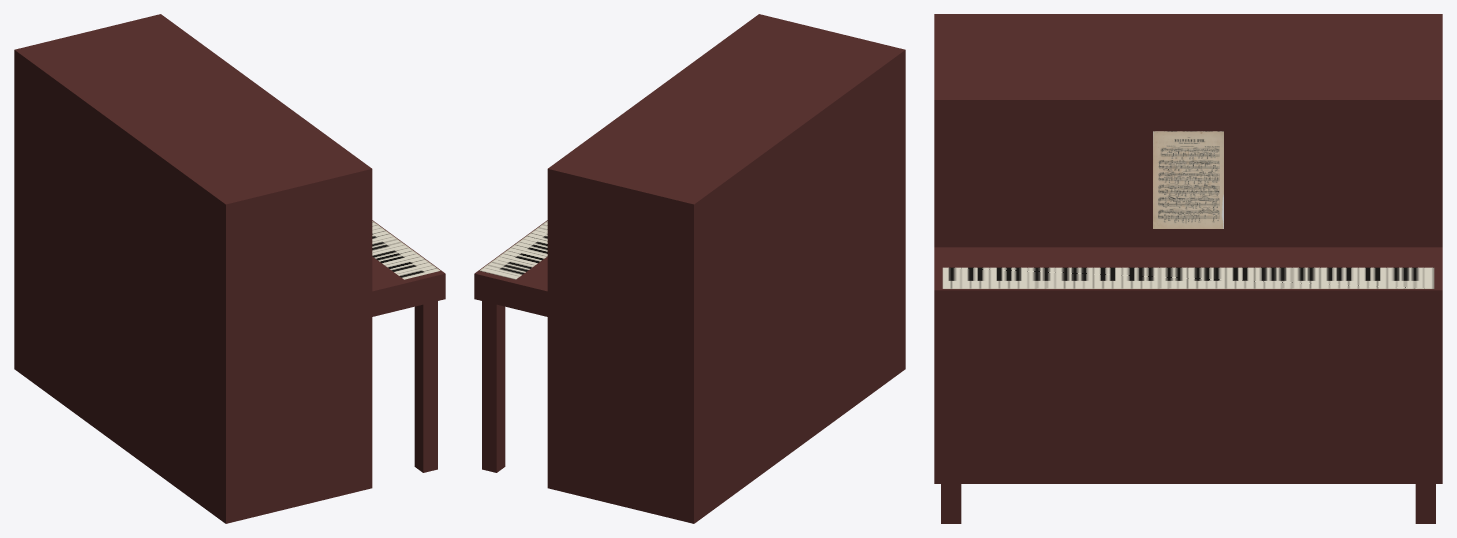
Rendered from piano.glb.
3 views of the same model, side by side, from view 1: azimuth 30°, elevation 25°; view 2: azimuth 150°, elevation 25°; view 3: azimuth 270°, elevation 25° (orthographic). The views are drawn at different scales.
Visible parts, largest first — view 1: leg2; view 2: leg2; view 3: leg2.
Part boxes in pixels (x1,y1,x2,y2): leg2: (14, 14, 445, 523); leg2: (474, 14, 905, 523); leg2: (934, 14, 1442, 523).
Bounding box in the file's own units: 0.9 × 1.25 × 1.5.
Materials: 3 (2 with a texture image).
